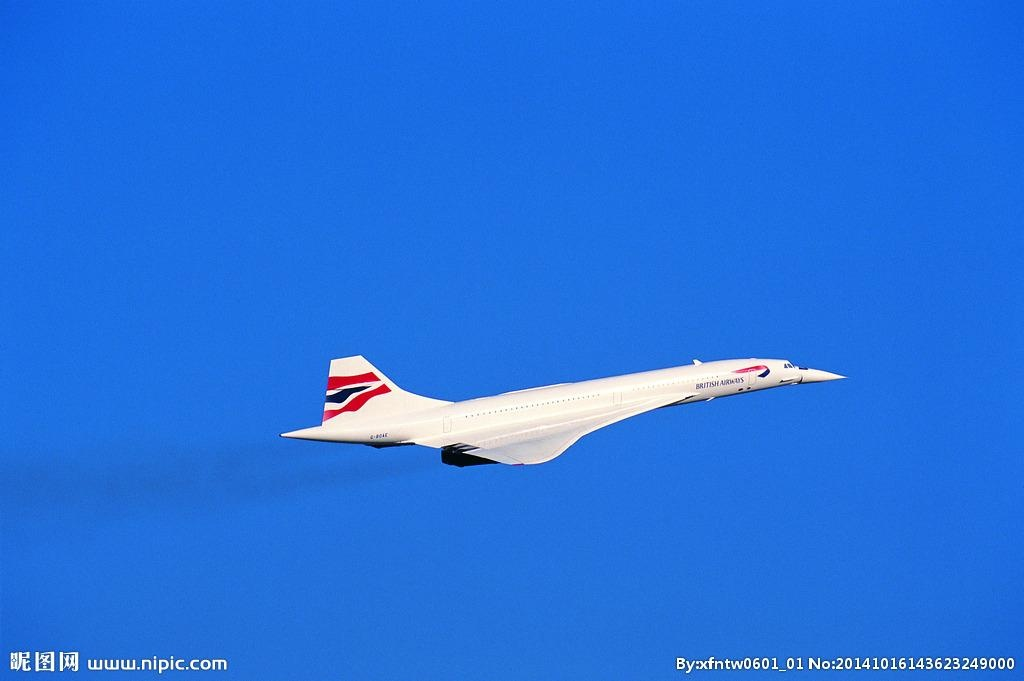airplane: (258, 340, 853, 471)
